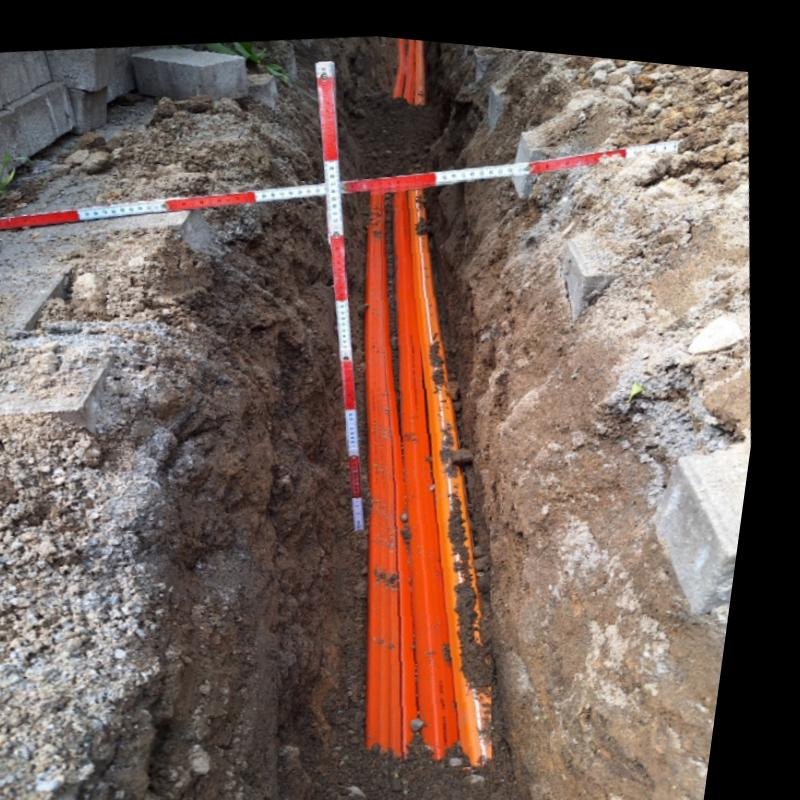Orang-Speednetrohrchen: (375, 175, 511, 752)
